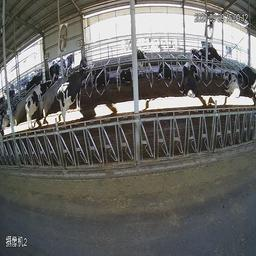cow: (58, 65, 84, 130), (22, 78, 49, 129), (238, 53, 256, 104), (220, 64, 241, 104), (179, 63, 197, 101), (155, 54, 172, 88), (190, 39, 204, 79), (92, 61, 108, 95), (117, 61, 132, 94), (136, 39, 148, 80), (204, 42, 216, 81)
